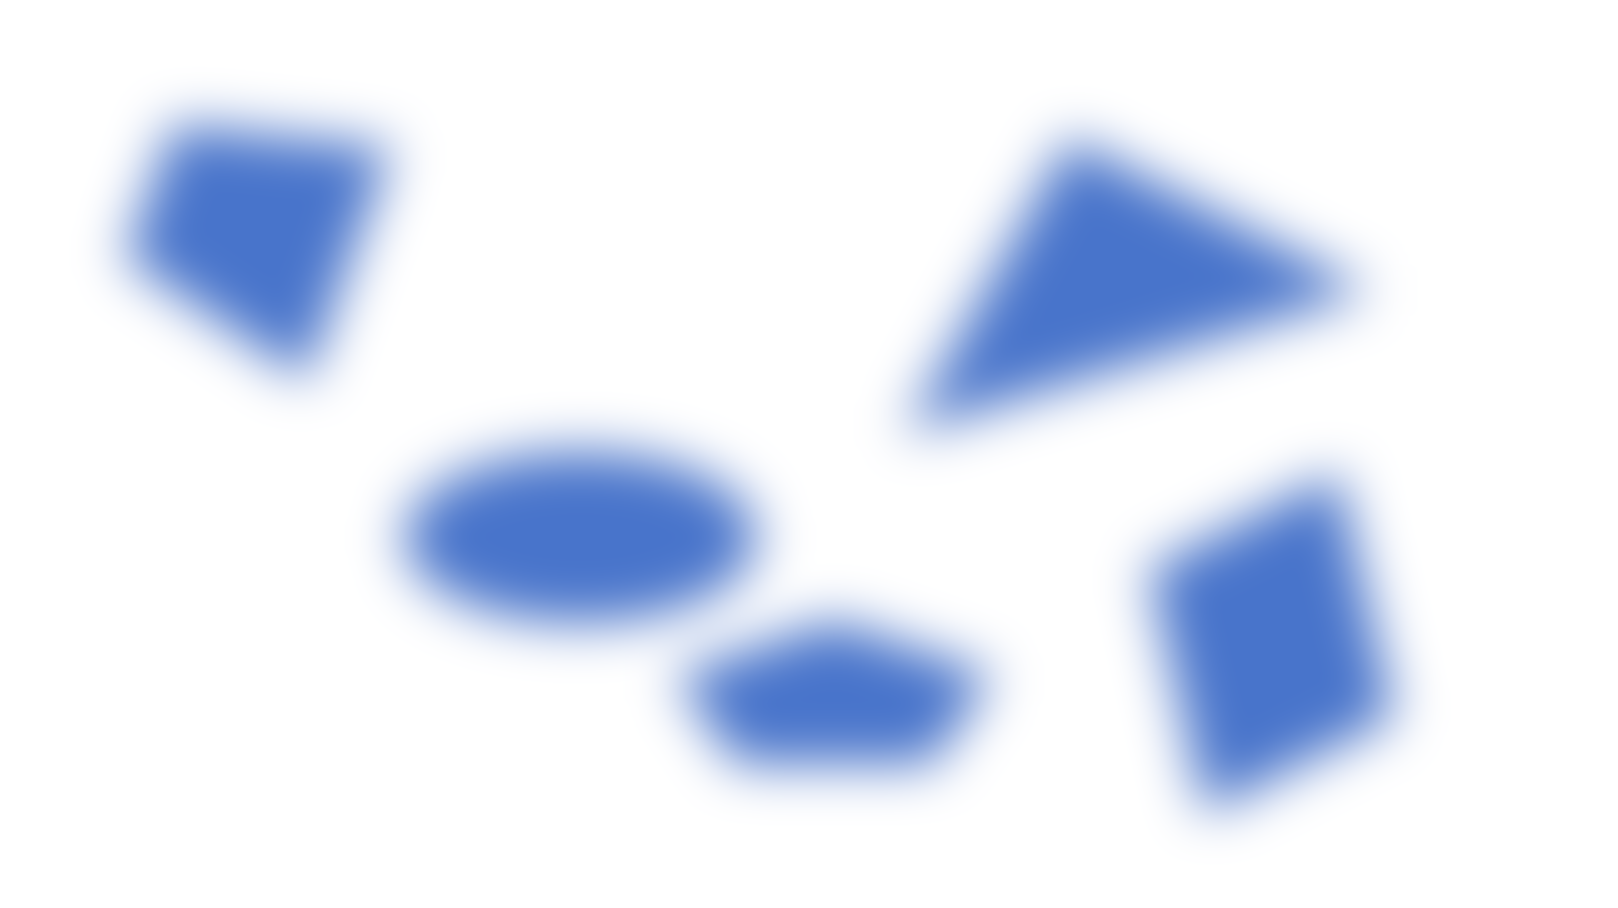circle: (382, 419, 796, 638)
parallelogram: (1139, 457, 1418, 824)
pentagon: (682, 599, 993, 775)
trapezium: (118, 103, 407, 375)
triangle: (877, 128, 1396, 459)
